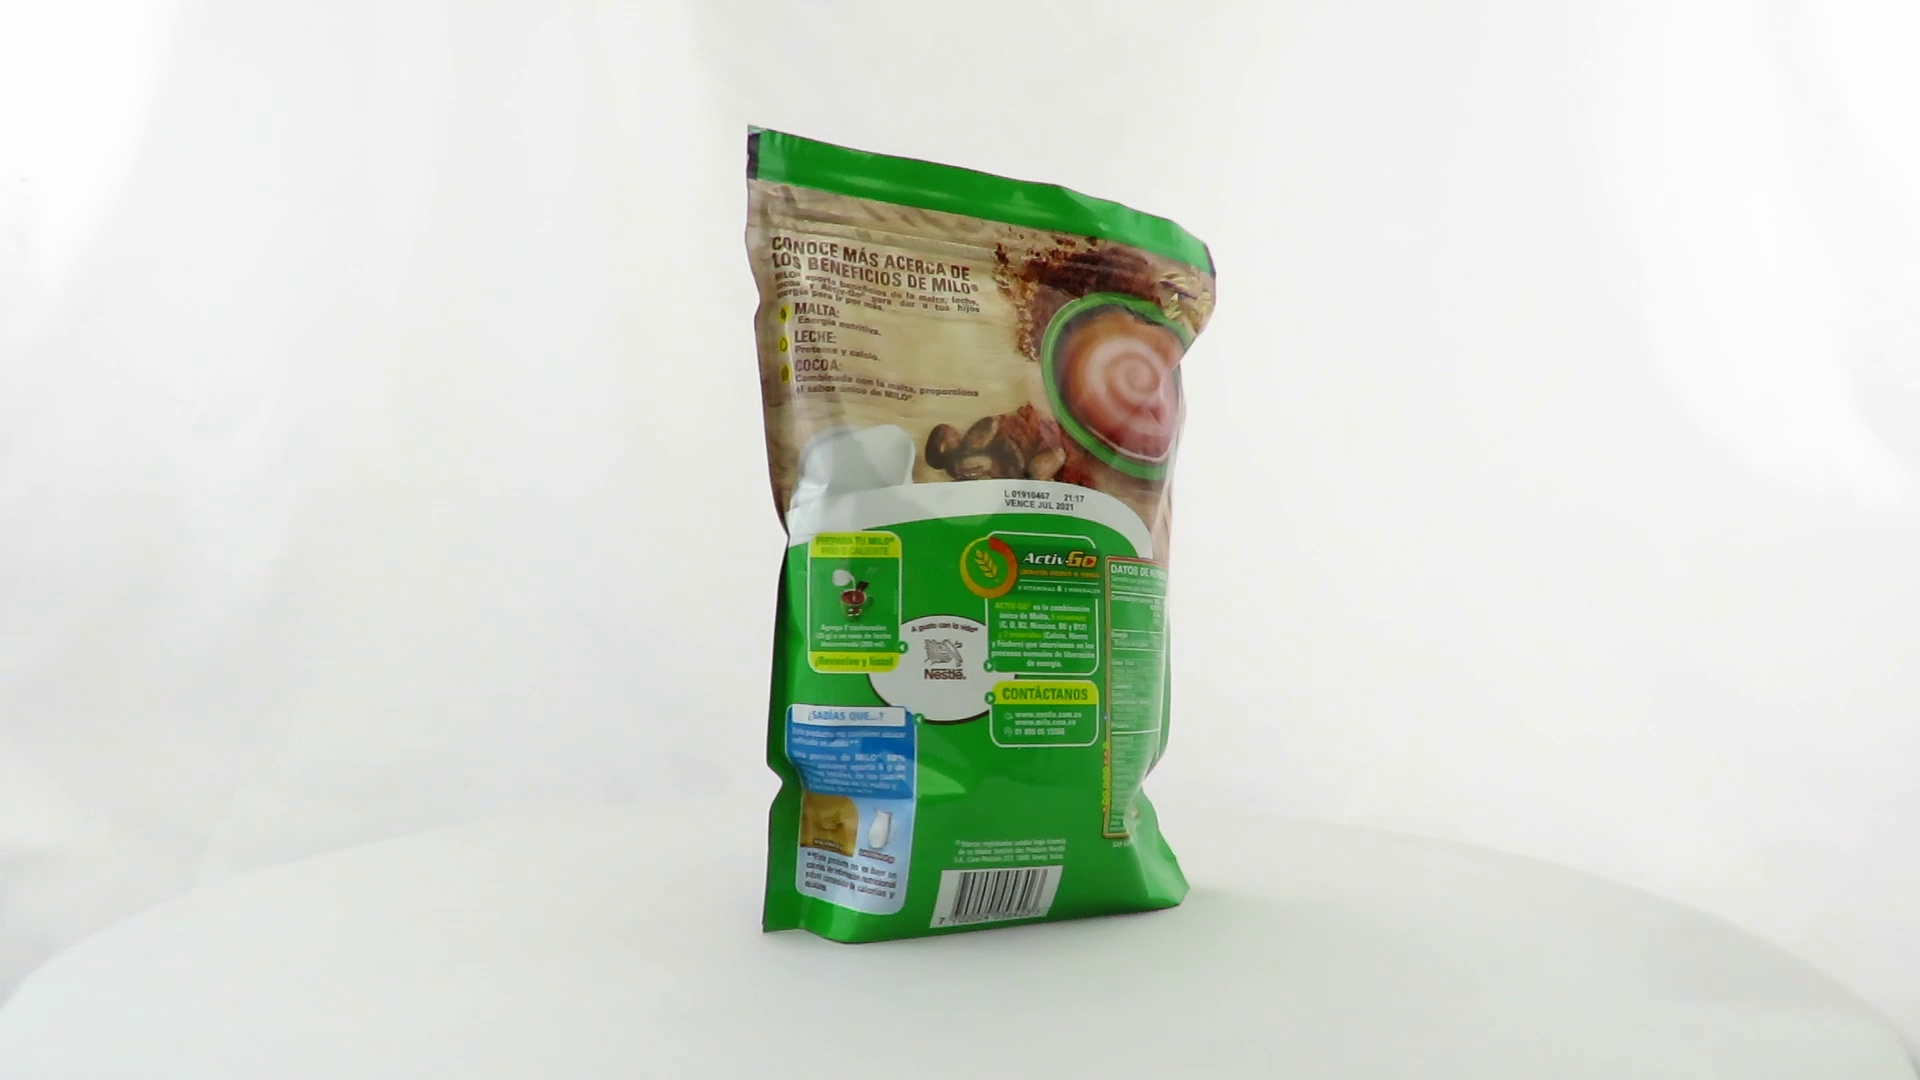COL0170205DYP50000: (738, 119, 1222, 951)
